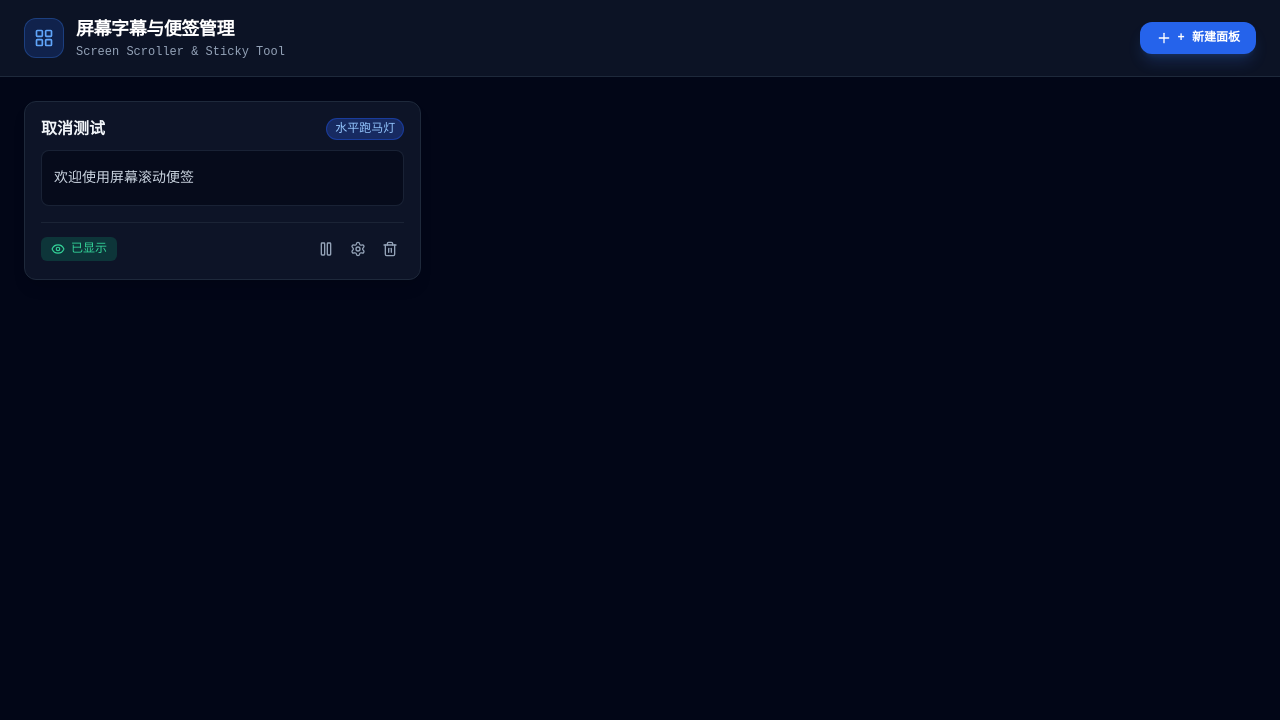
Test case: MainDashboard › closes PanelEditModal without saving when Cancel is clicked
The width and height of the screenshot is (1280, 720).
Click the button named "编辑面板" at (358, 249), box 344,235 -> 372,263
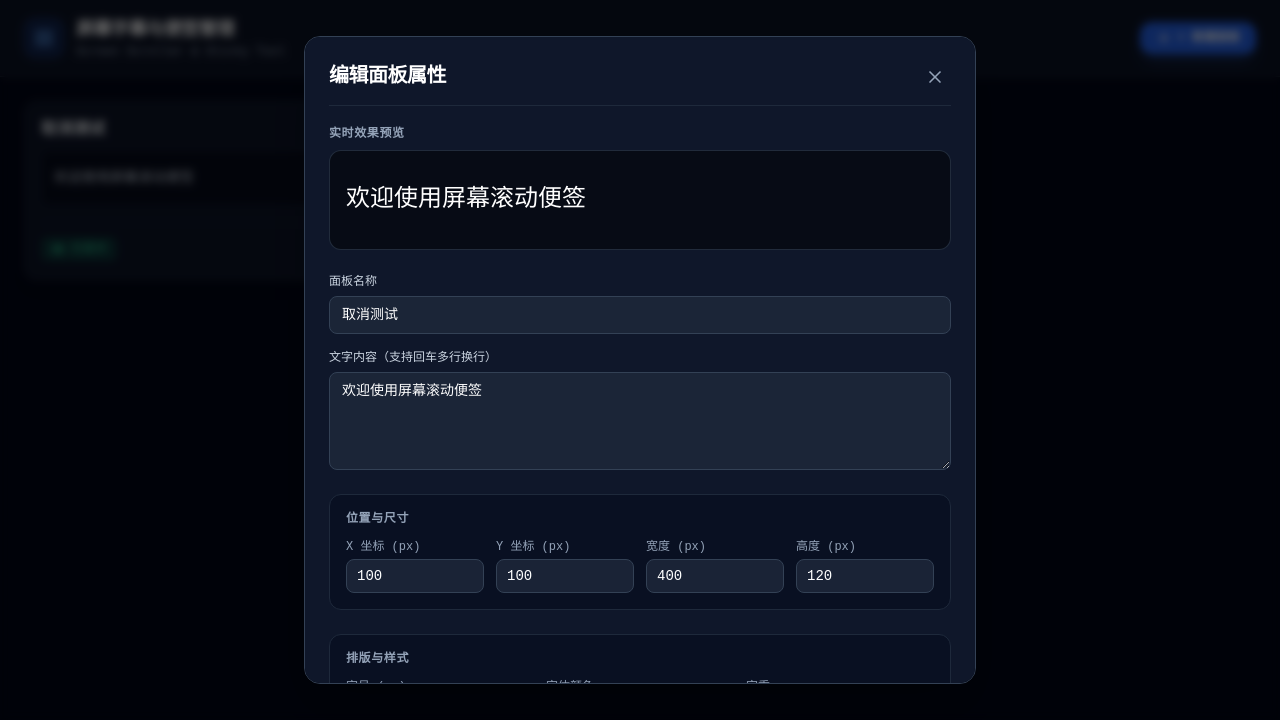
Expected: the element with test id "panel-edit-modal" is shown
Replace the text in the field with test id "modal-input-name" with "不会被保存的名称" at (640, 315), box 329,296 -> 951,334
(page scrolled)
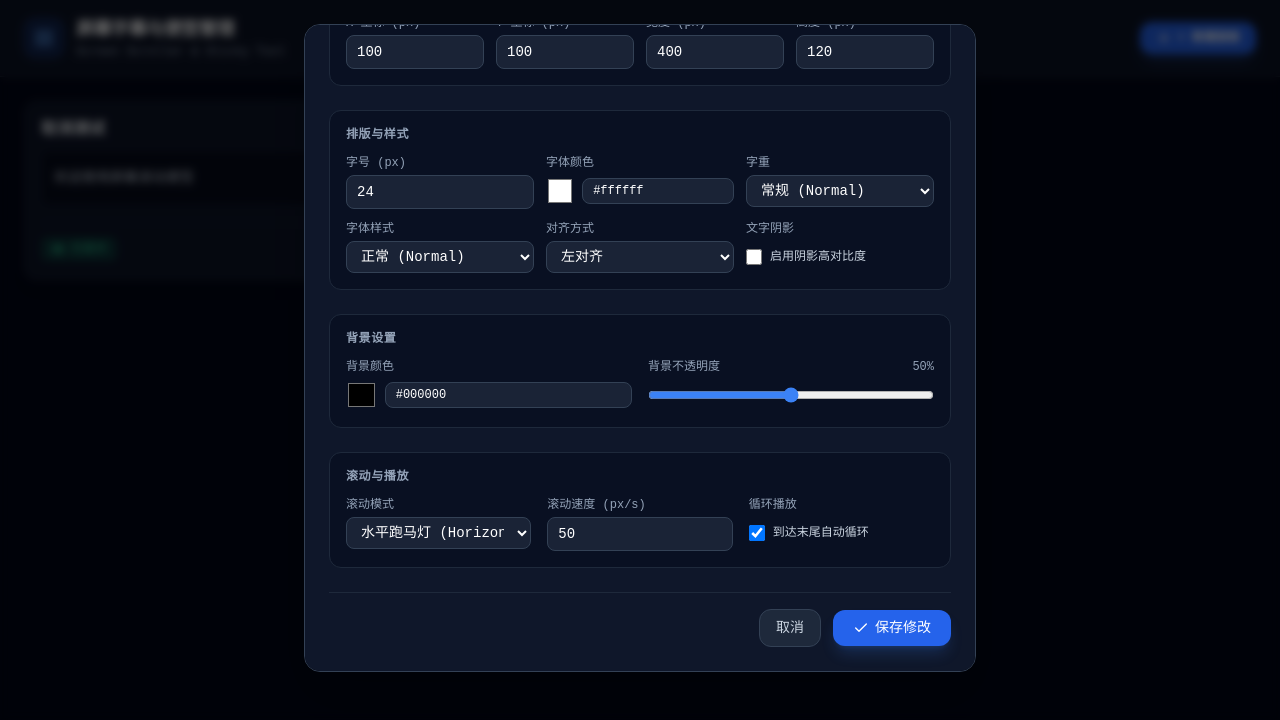
Click the button with test id "modal-btn-cancel" at (790, 628), box 759,609 -> 821,647
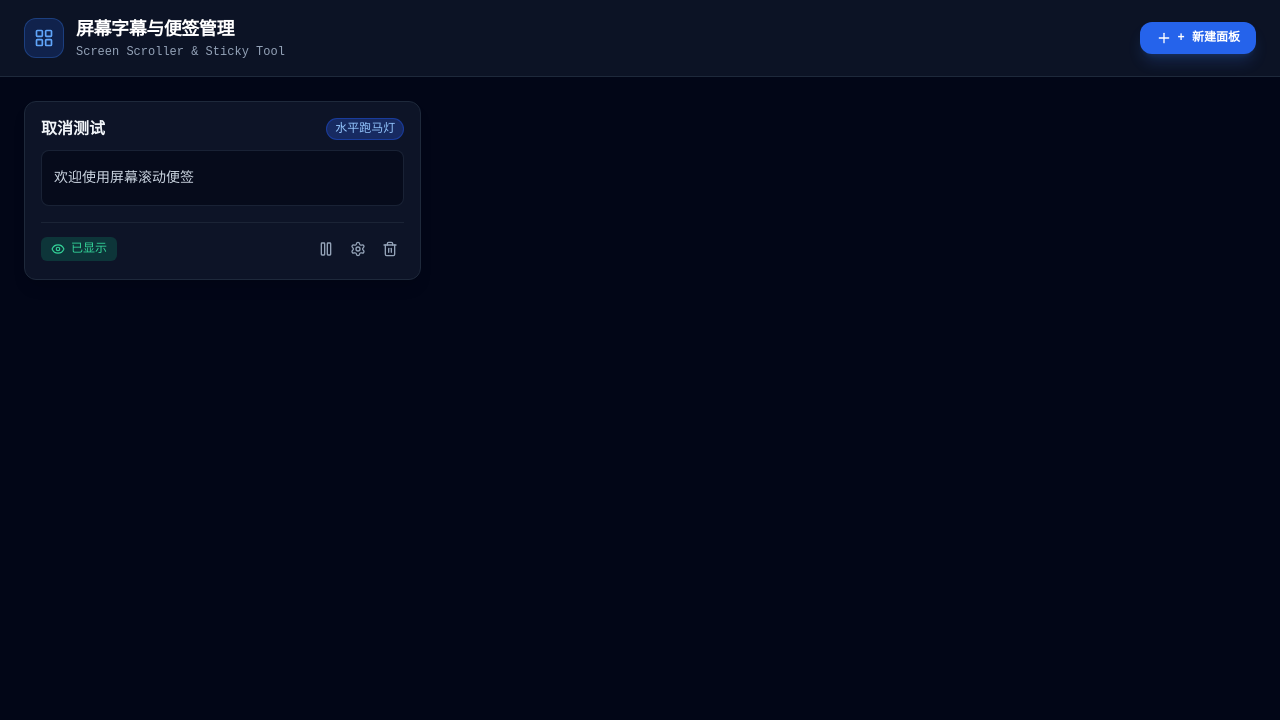
Expected: the element with test id "panel-edit-modal" is gone
